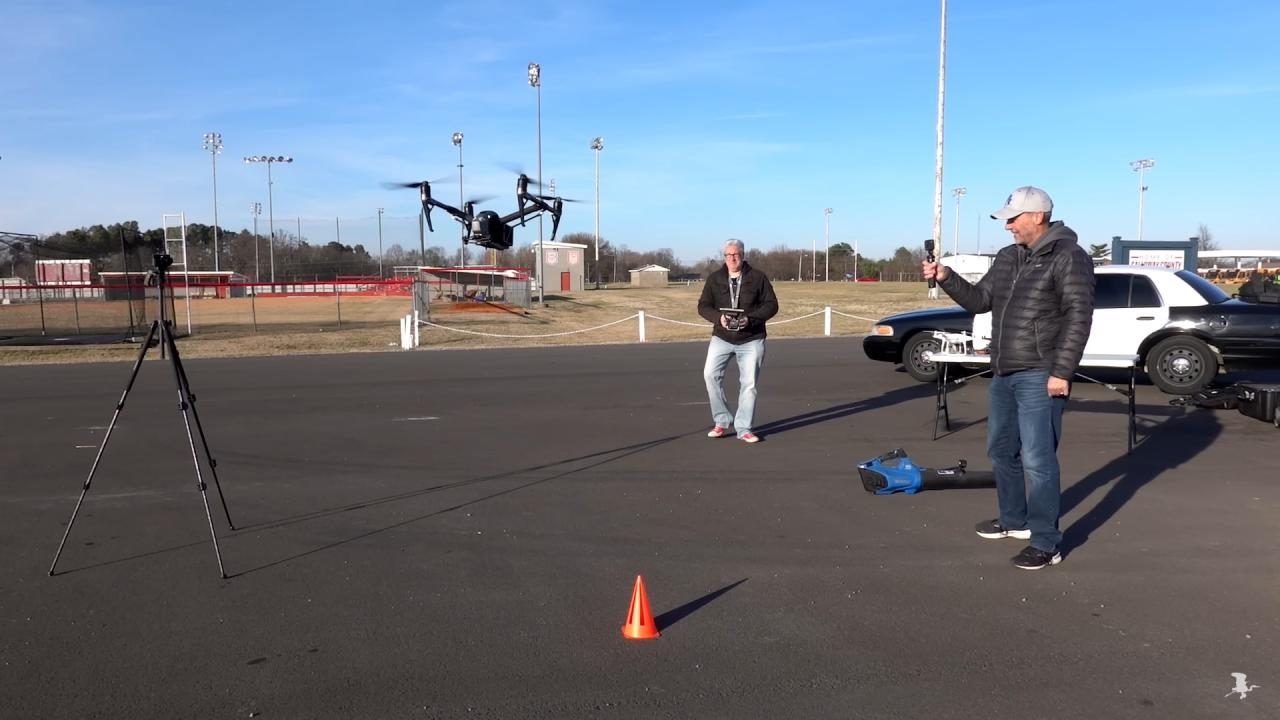Drone: (371, 151, 608, 265)
